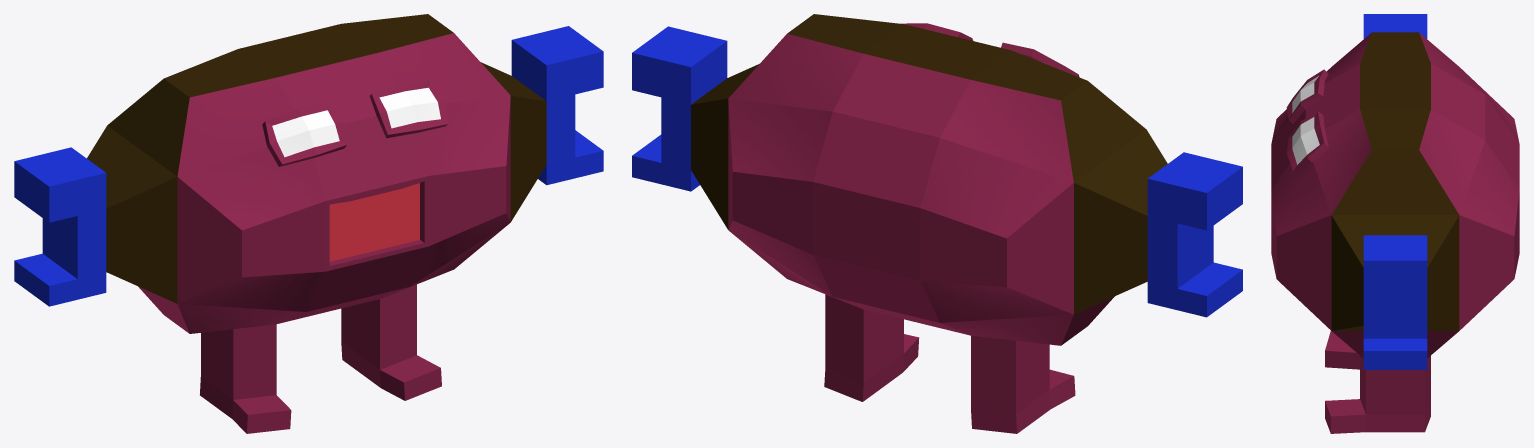
Rendered from BrownPlayer.fbx.
The picture shows the model from 3 angles, left to right: view 1: azimuth 30°, elevation 25°; view 2: azimuth 150°, elevation 25°; view 3: azimuth 270°, elevation 25°; orthographic projection. The views are drawn at different scales.
Visible parts, largest first — view 1: Mball.001; view 2: Mball.001; view 3: Mball.001.
Part boxes in pixels (bbox=[...]): Mball.001: bbox=[14, 14, 603, 433]; Mball.001: bbox=[632, 14, 1242, 433]; Mball.001: bbox=[1271, 14, 1519, 433].
Size of the model in its own units: 474 by 275 by 202.
